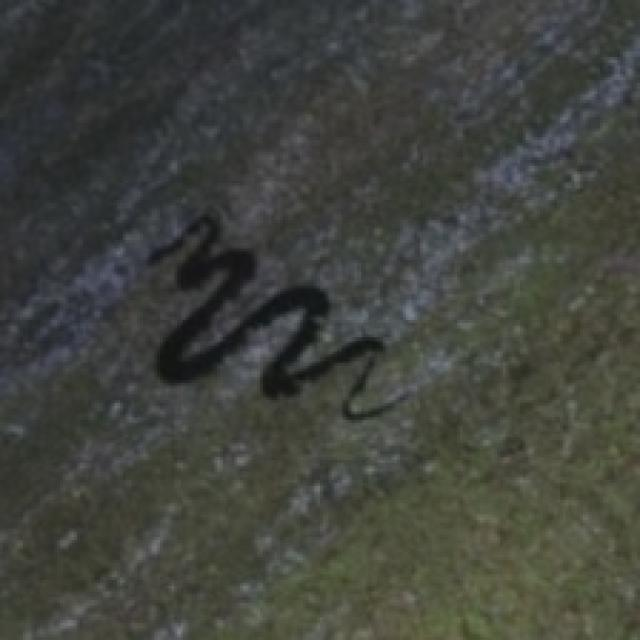king cobra: (149, 211, 391, 417)
